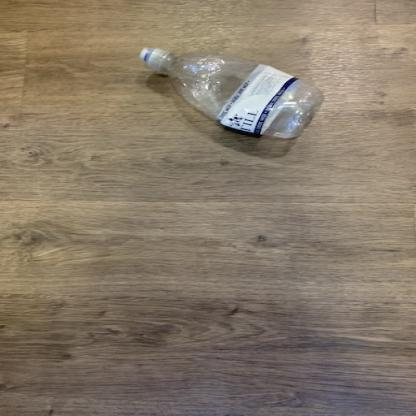trash: (137, 46, 324, 144)
